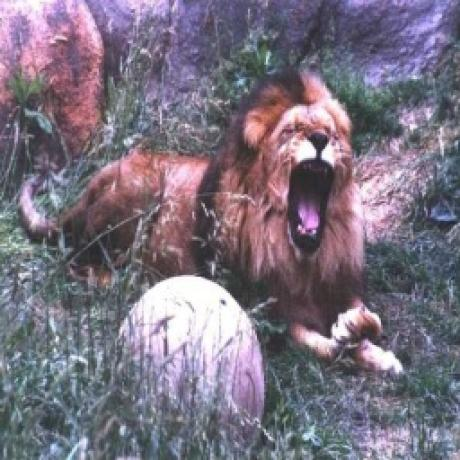Lion: (18, 67, 405, 376)
